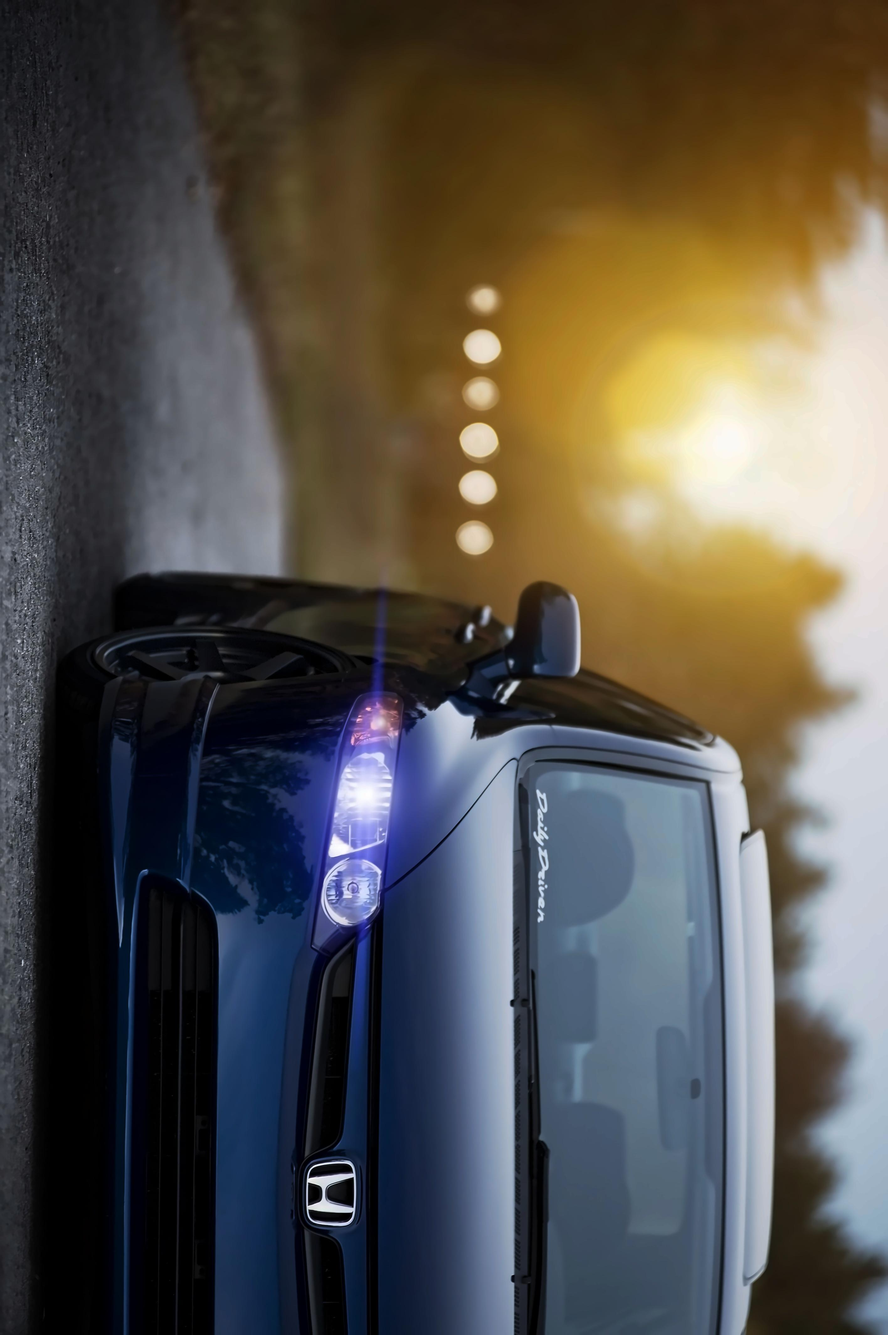Front bumper: (41, 654, 352, 1335), (372, 755, 531, 1335)
Headlight - -R-: (303, 678, 412, 965)
Side mirror - -R-: (481, 555, 606, 698)
